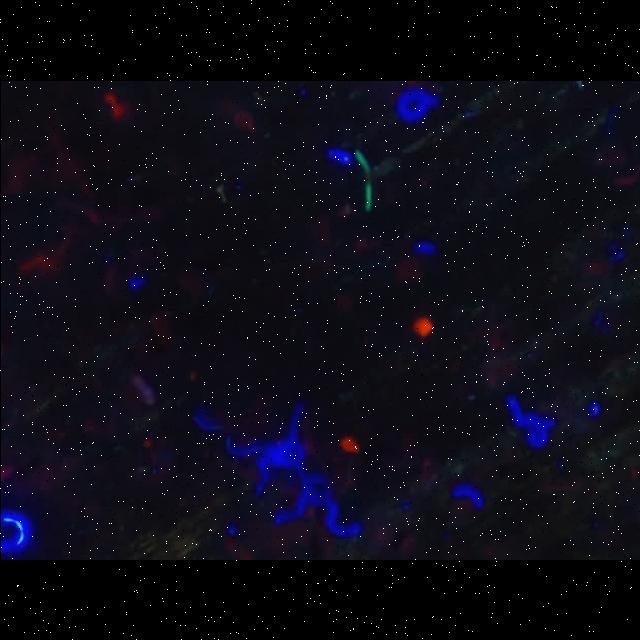Fragment: (102, 92, 124, 121)
